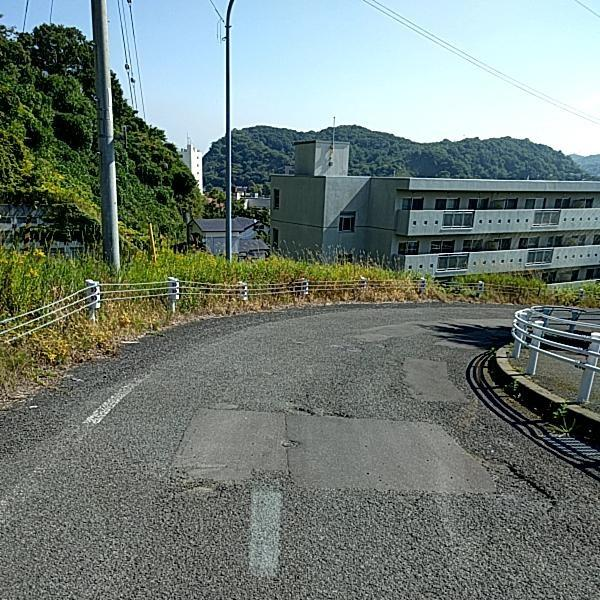pothole: (479, 454, 557, 501)
